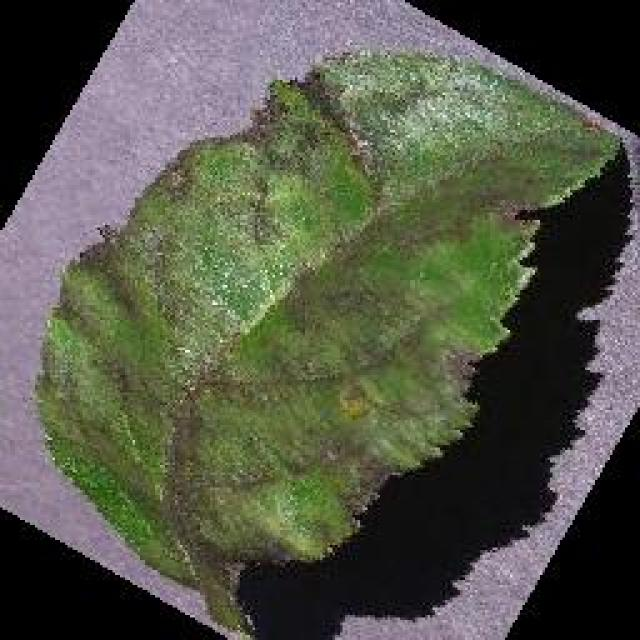apple scab disease: (30, 42, 628, 638)
